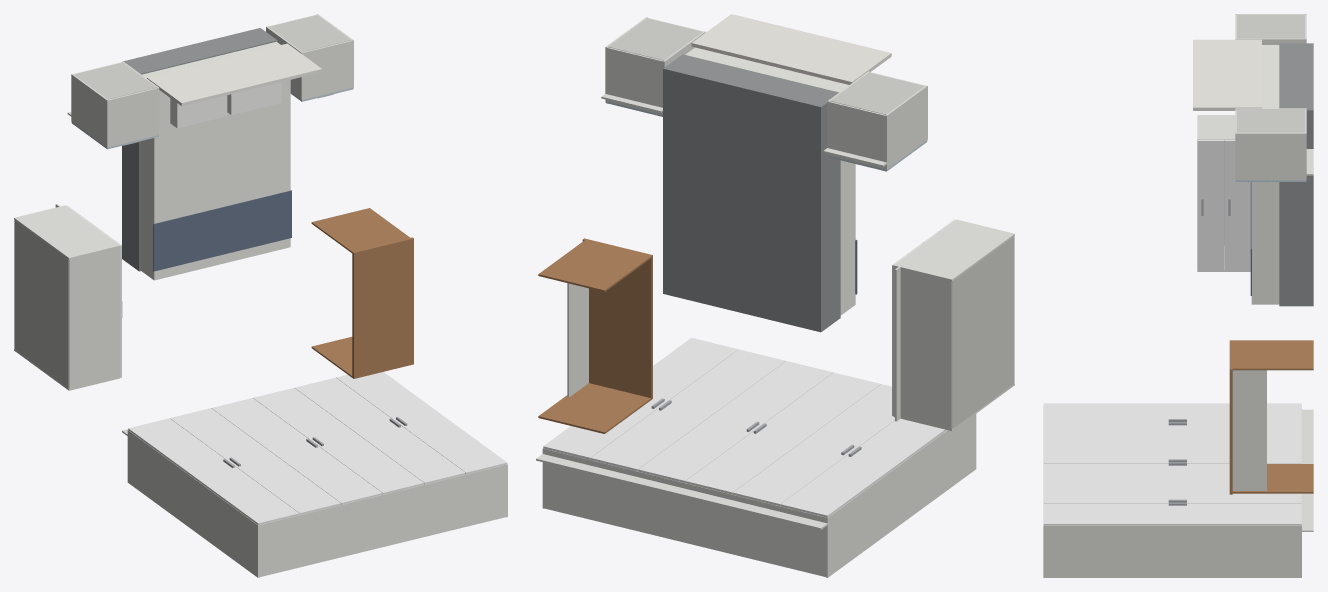
File: Quarto_Casal_Real_moveis.obj
3 renders of one model, left to right at view 1: azimuth 30°, elevation 25°; view 2: azimuth 150°, elevation 25°; view 3: azimuth 270°, elevation 25°, orthographic. The views are drawn at different scales.
Parts seen in each view (by area): view 1: M05_wardrobe, M02_bed, M06_dresser, M07_desk, M03_nightstand, M01_wall_panel, M04_nightstand; view 2: M05_wardrobe, M02_bed, M06_dresser, M07_desk, M03_nightstand, M01_wall_panel, M04_nightstand; view 3: M05_wardrobe, M02_bed, M07_desk, M06_dresser, M04_nightstand, M01_wall_panel, M03_nightstand.
Part boxes in pixels (x1,y1,x2,y2): M05_wardrobe: (122,372,507,577); M02_bed: (122,28,291,280); M06_dresser: (14,204,122,390); M07_desk: (311,208,413,378); M03_nightstand: (67,61,159,149); M01_wall_panel: (147,43,322,106); M04_nightstand: (266,14,353,101); M05_wardrobe: (536,338,976,577); M02_bed: (663,47,857,332); M06_dresser: (892,219,1014,430); M07_desk: (538,238,652,433); M03_nightstand: (823,71,927,171); M01_wall_panel: (691,14,891,84); M04_nightstand: (601,17,705,116); M05_wardrobe: (1043,403,1313,577); M02_bed: (1250,43,1313,306); M07_desk: (1229,340,1313,494); M06_dresser: (1197,115,1250,271); M04_nightstand: (1235,108,1313,181); M01_wall_panel: (1193,39,1261,110); M03_nightstand: (1235,14,1306,44).
Size of the model in its own units: 3600 by 4000 by 2350.
